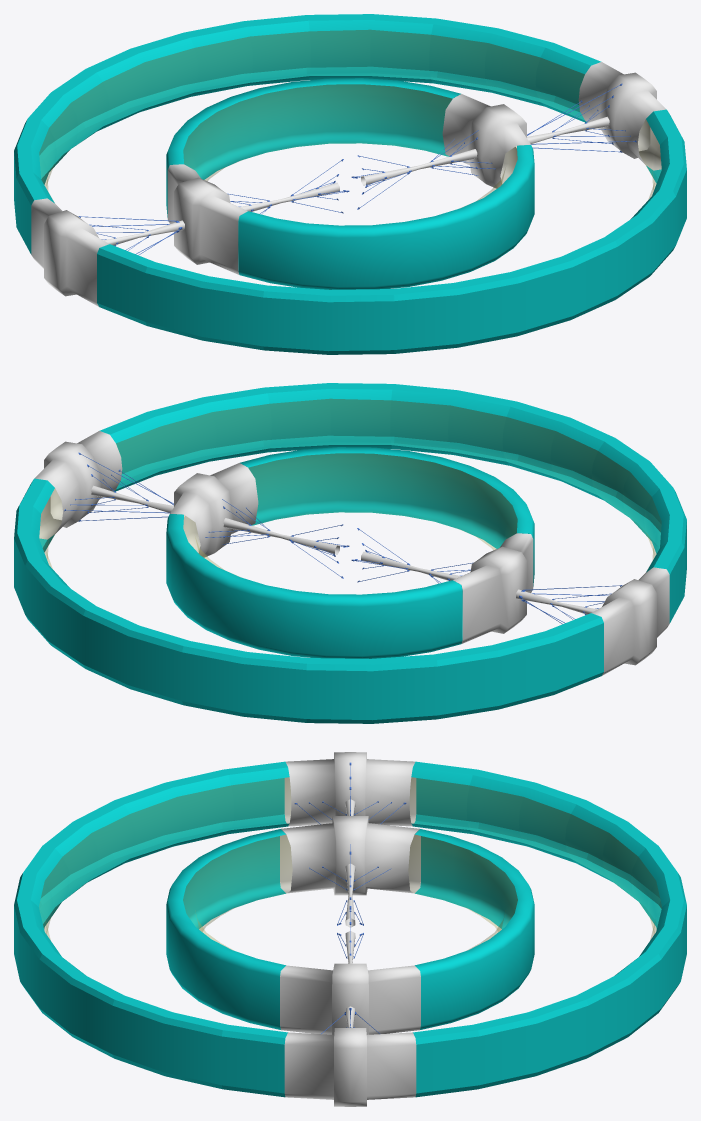
Rendered from station_ring_2-5k10k_coll.dae.
The picture shows the model from 3 angles, top to bottom: view 1: azimuth 30°, elevation 25°; view 2: azimuth 150°, elevation 25°; view 3: azimuth 270°, elevation 25°; orthographic projection.
Parts seen in each view (by area): view 1: collision_ring_003, collision_ring_002, collision_ring_005, collision_ring_spoke_002, collision_ring_spoke_001, collision_spoke_001, collision_struts_004, collision_spoke_002, collision_struts_003; view 2: collision_ring_002, collision_ring_003, collision_ring_005, collision_ring_spoke_002, collision_ring_spoke_001, collision_spoke_001, collision_struts_004, collision_spoke_002, collision_struts_003; view 3: collision_ring_003, collision_ring_002, collision_ring_005, collision_ring_spoke_002, collision_ring_spoke_001, collision_spoke_001.
Boxes of the visible parts, bbox=[...] form: collision_ring_003: bbox=[97, 109, 686, 354]; collision_ring_002: bbox=[14, 14, 601, 254]; collision_ring_005: bbox=[166, 78, 534, 289]; collision_ring_spoke_002: bbox=[167, 94, 530, 274]; collision_ring_spoke_001: bbox=[31, 62, 666, 306]; collision_spoke_001: bbox=[239, 149, 477, 211]; collision_struts_004: bbox=[78, 83, 636, 255]; collision_spoke_002: bbox=[103, 116, 609, 245]; collision_struts_003: bbox=[351, 130, 495, 209]; collision_ring_002: bbox=[14, 478, 603, 723]; collision_ring_003: bbox=[99, 383, 686, 623]; collision_ring_005: bbox=[166, 447, 534, 658]; collision_ring_spoke_002: bbox=[170, 463, 533, 643]; collision_ring_spoke_001: bbox=[34, 431, 669, 675]; collision_spoke_001: bbox=[223, 518, 461, 580]; collision_struts_004: bbox=[64, 452, 622, 624]; collision_spoke_002: bbox=[91, 485, 597, 614]; collision_struts_003: bbox=[205, 499, 349, 578]; collision_ring_003: bbox=[14, 761, 290, 1097]; collision_ring_002: bbox=[410, 761, 686, 1097]; collision_ring_005: bbox=[166, 829, 534, 1029]; collision_ring_spoke_002: bbox=[280, 816, 420, 1034]; collision_ring_spoke_001: bbox=[284, 752, 416, 1106]; collision_spoke_001: bbox=[345, 863, 355, 963].
Size of the model in its own units: 10678 by 10436 by 1235.
